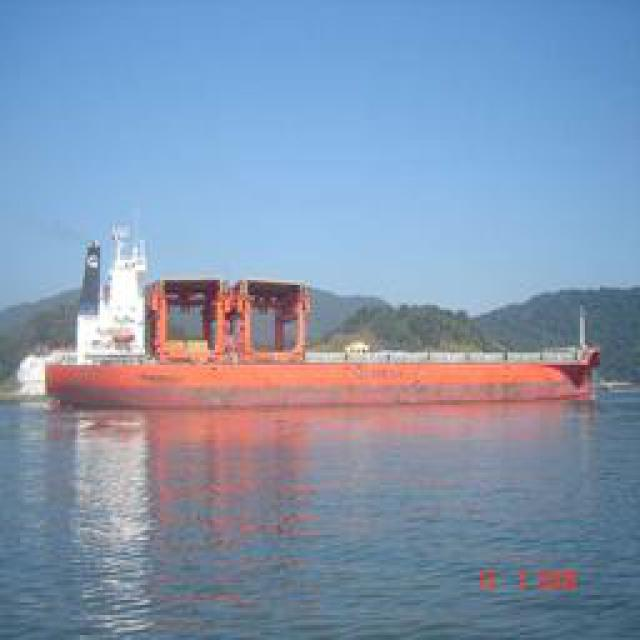Ship: (24, 326, 599, 411)
